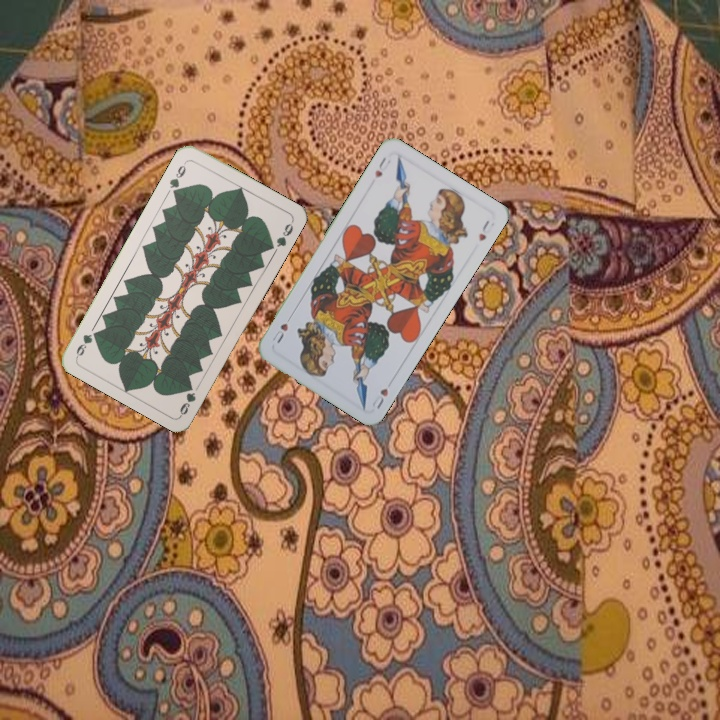G9: (165, 157, 189, 198), (176, 381, 198, 418)
HU: (368, 384, 391, 411), (371, 153, 393, 181)
